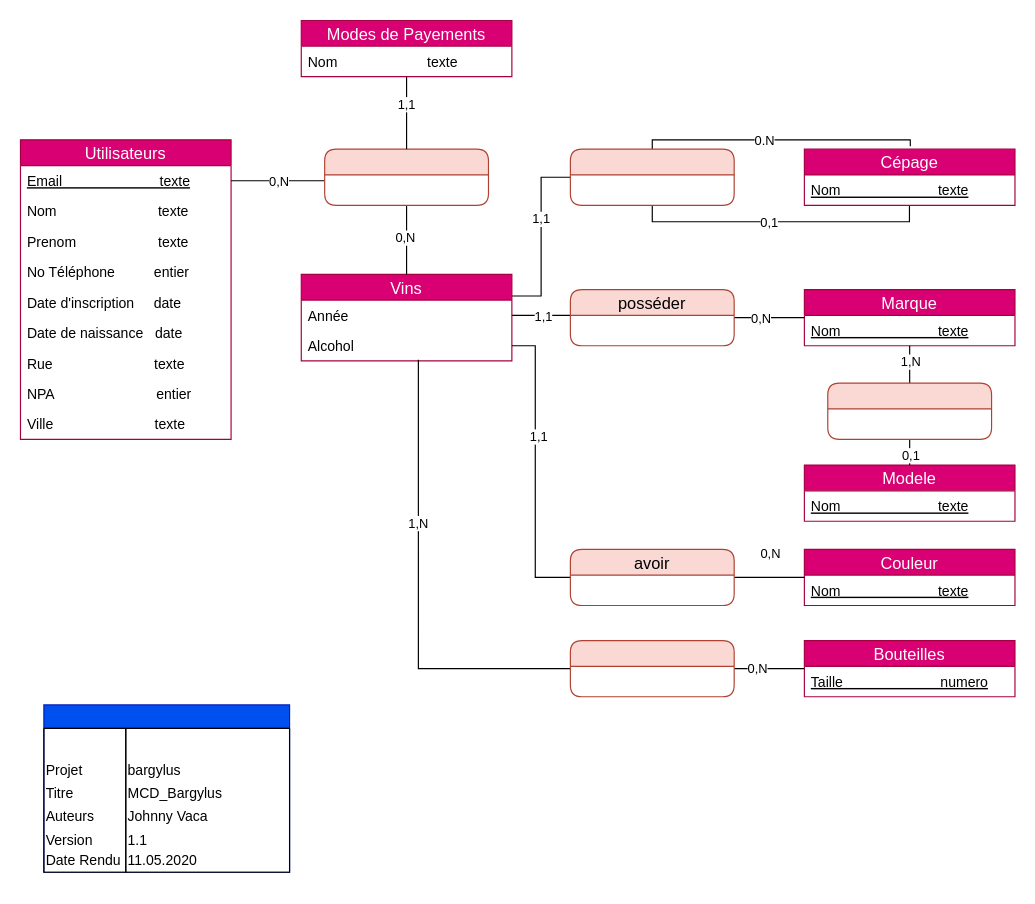
Some shapes in this 1035 by 904 pixel diagram are drawn without their labels. Here are the shapes that lost their labels. From the top down, the centre of each, then its label:
[406,176]: acheter
[651,176]: composer
[909,410]: appartenir
[651,668]: contient
